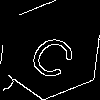C: (25, 25, 85, 83)
